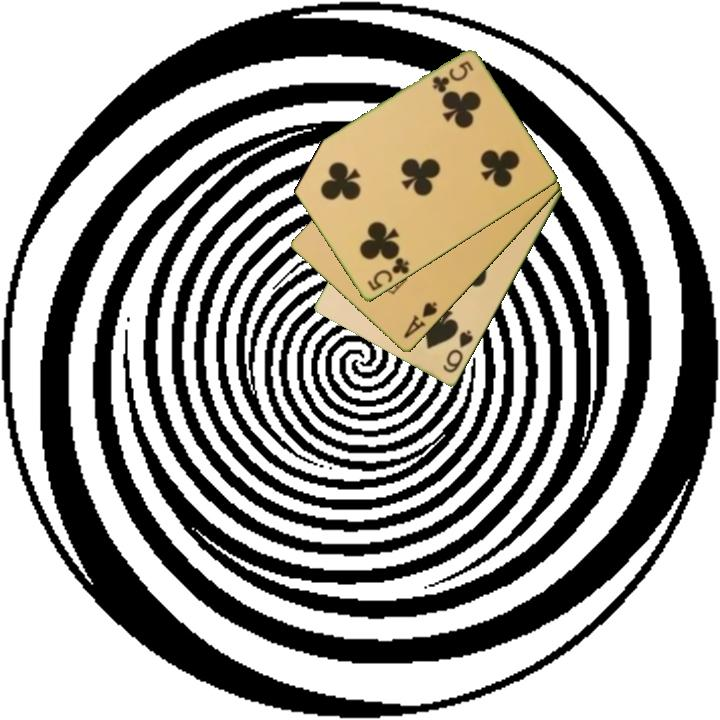5c: (364, 254, 412, 294), (428, 58, 477, 96)
6s: (439, 326, 476, 376)
As: (400, 299, 440, 342)
